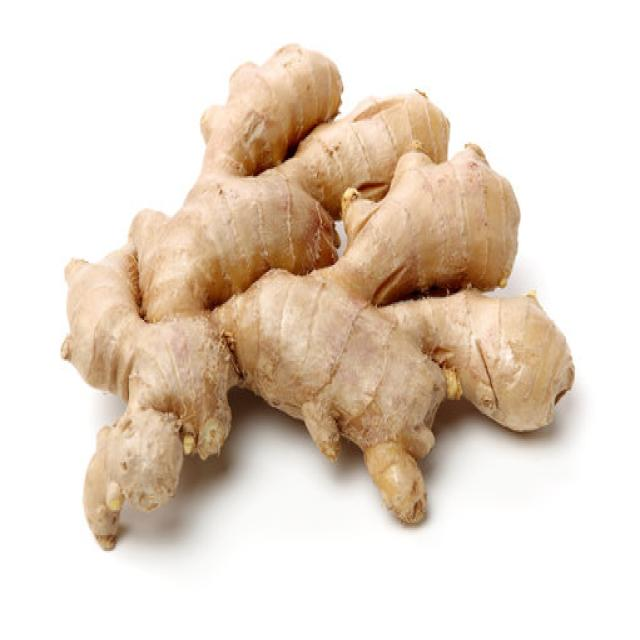Ginger: (60, 41, 575, 549)
